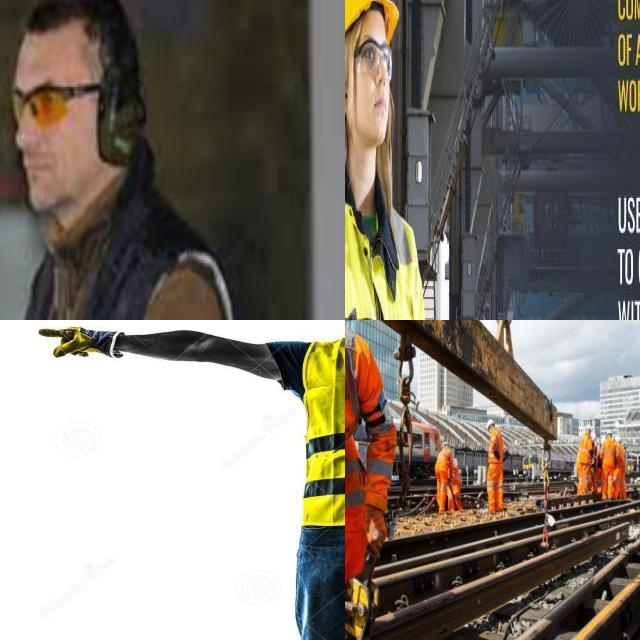Ear-protection: (13, 0, 145, 217)
face_nomask: (345, 15, 398, 153)
glasses: (354, 32, 392, 82)
hand_glove: (29, 320, 145, 385)
head_helmet: (345, 0, 411, 44), (486, 418, 496, 430), (585, 424, 593, 434), (606, 428, 610, 438)
person: (345, 0, 459, 320), (247, 320, 345, 640), (345, 320, 396, 640), (486, 419, 506, 516), (432, 440, 450, 513), (601, 430, 615, 501), (580, 425, 594, 494), (450, 456, 465, 514), (616, 438, 626, 501)
vest: (345, 175, 450, 320), (345, 320, 391, 539), (296, 338, 345, 522), (488, 430, 504, 466)
